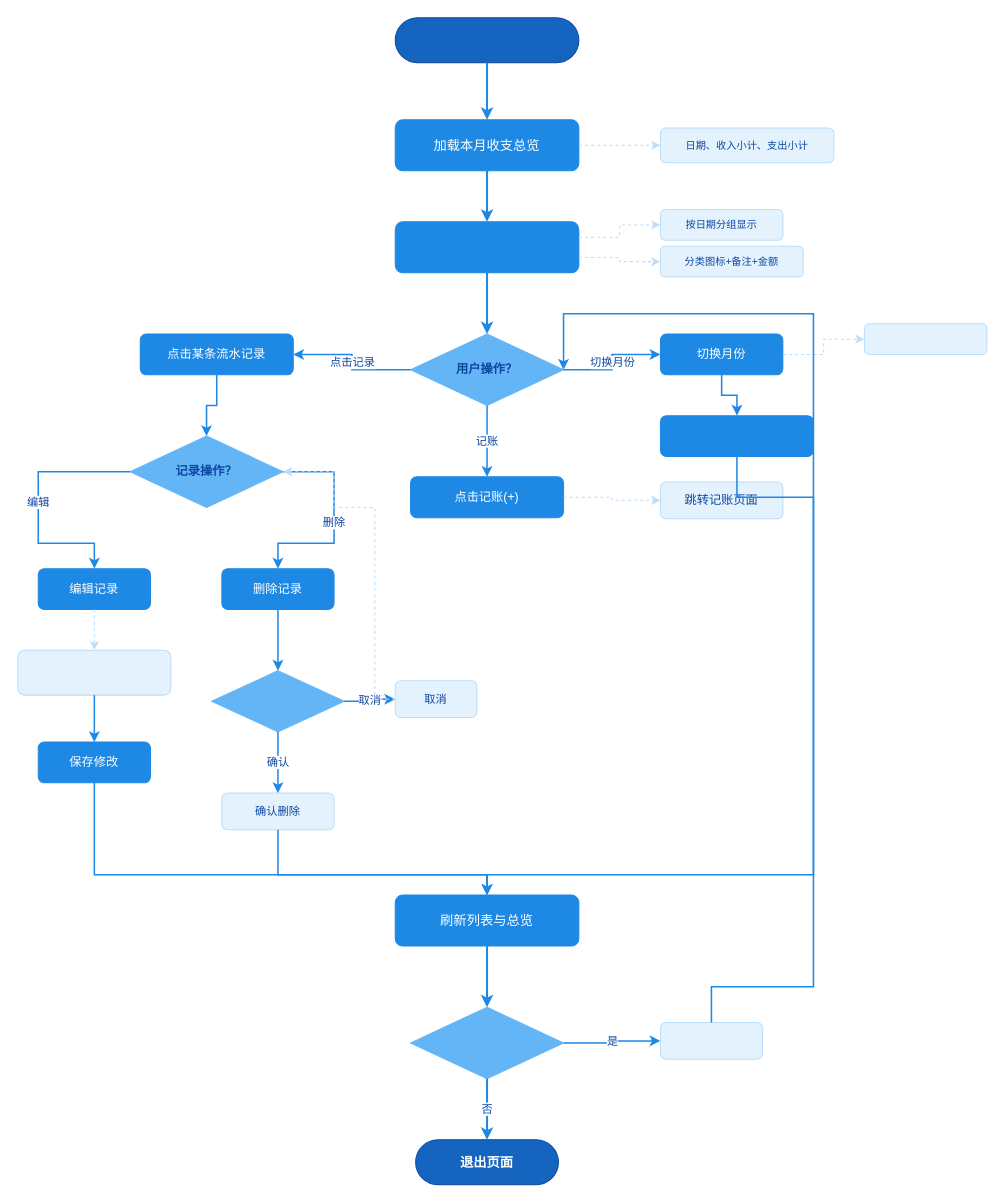
This 1005x1203 diagram has some shape labels left out. The centre of each missing label's shape, as x and y in pixels:
"修改分类/金额/备注 修改日期/账户" belongs at point 94,672.
"加载收支流水列表" belongs at point 486,247.
"月份切换选择器" belongs at point 925,338.
"确认删除？" belongs at point 277,701.
"继续操作？" belongs at point 487,1042.
"返回操作" belongs at point 710,1040.
"进入明细/首页" belongs at point 486,40.
"重新加载该月数据" belongs at point 736,435.
